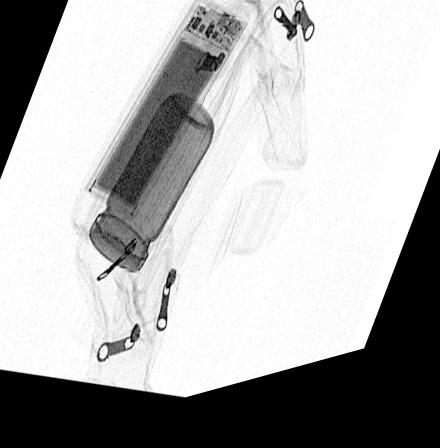Powerbank: (84, 4, 250, 227)
